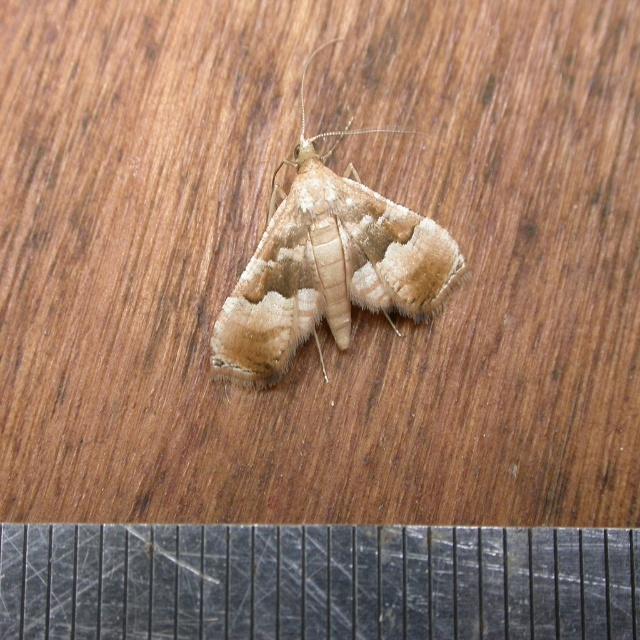Moths and butterflies: (201, 31, 471, 408)
